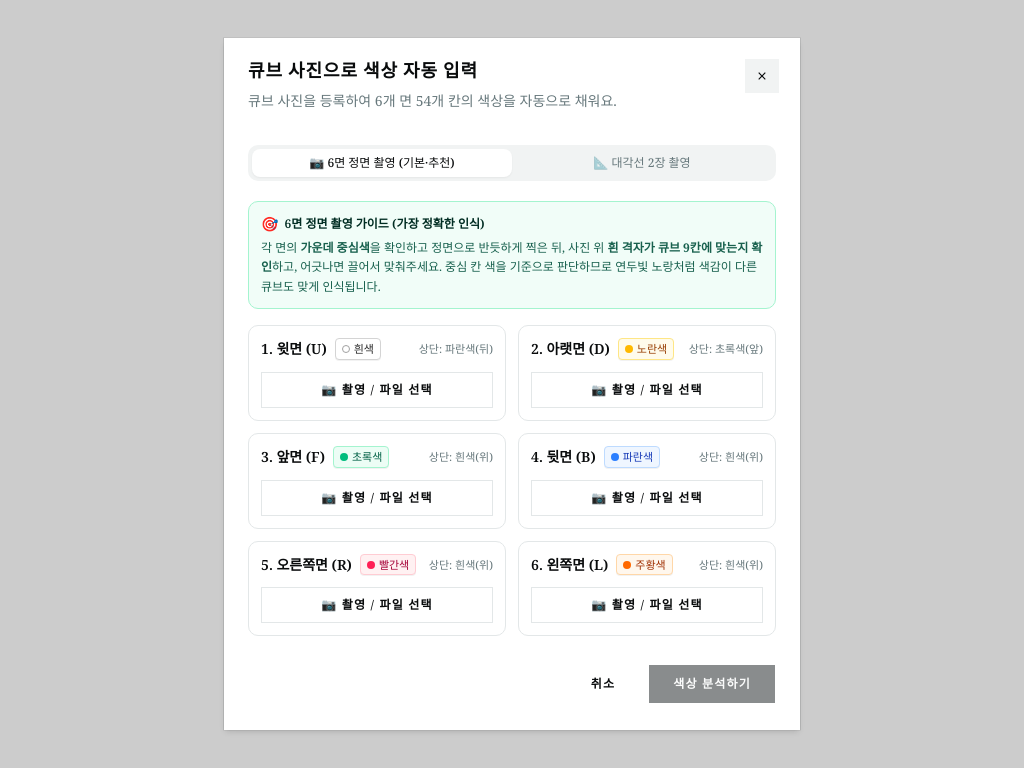
Test: PhotoInputDialog › 비로그인 상태여도 6면 촬영은 쓸 수 있고, 대각선 2장 촬영에서만 로그인을 안내한다
This screenshot has width=1024, height=768.
Expected: the text "6면 정면 촬영 가이드 (가장 정확한 인식)" is shown, [284,216,485,232]
Expected: the text "구글 로그인이 필요해요" is not shown
Click the button "📐 대각선 2장 촬영" at coordinates (642, 163), box [512,149,772,177]
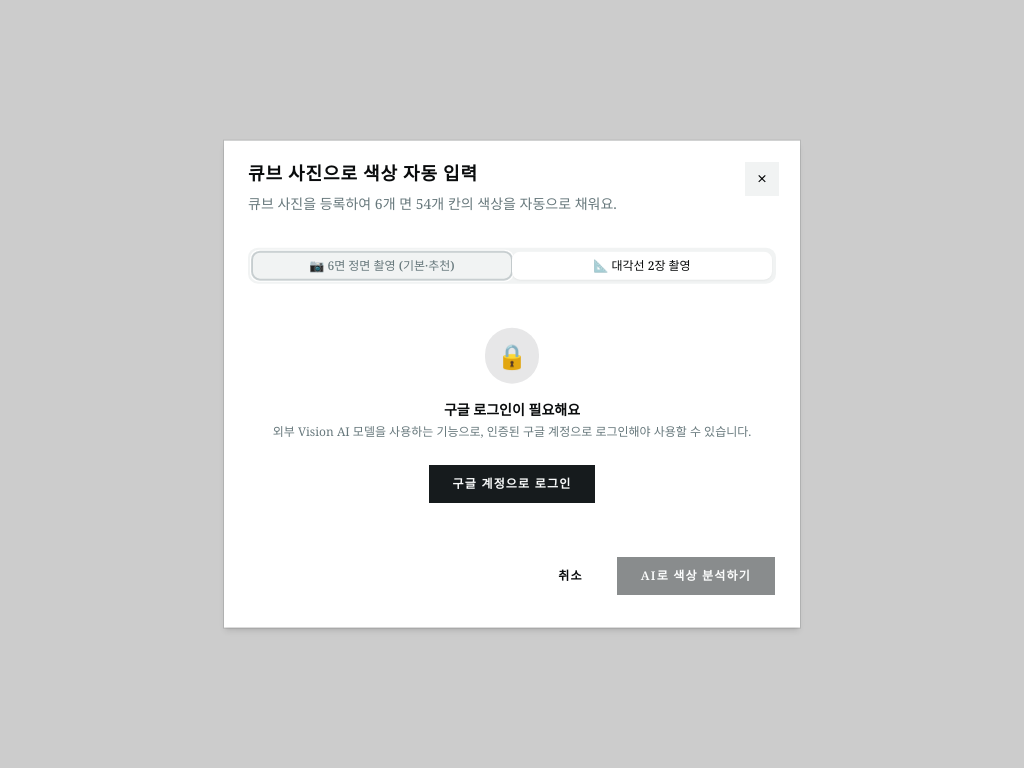
Result: the text "구글 로그인이 필요해요" is shown at [444,399,580,418]
Result: the button "구글 계정으로 로그인" is shown at [428,463,596,503]
